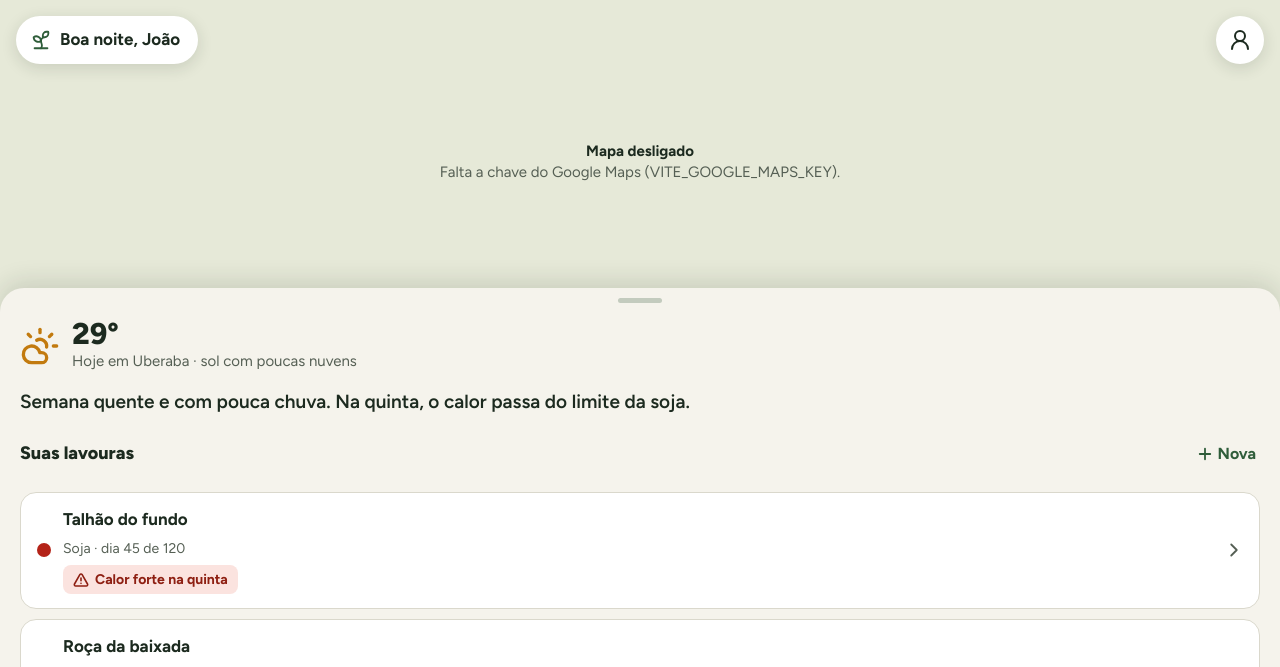
Test: Painel › no celular, leva para a Minha conta pelo botão do alto
The image size is (1280, 667).
Click the link named "Minha conta" at (1240, 40), box [1216, 16, 1264, 64]
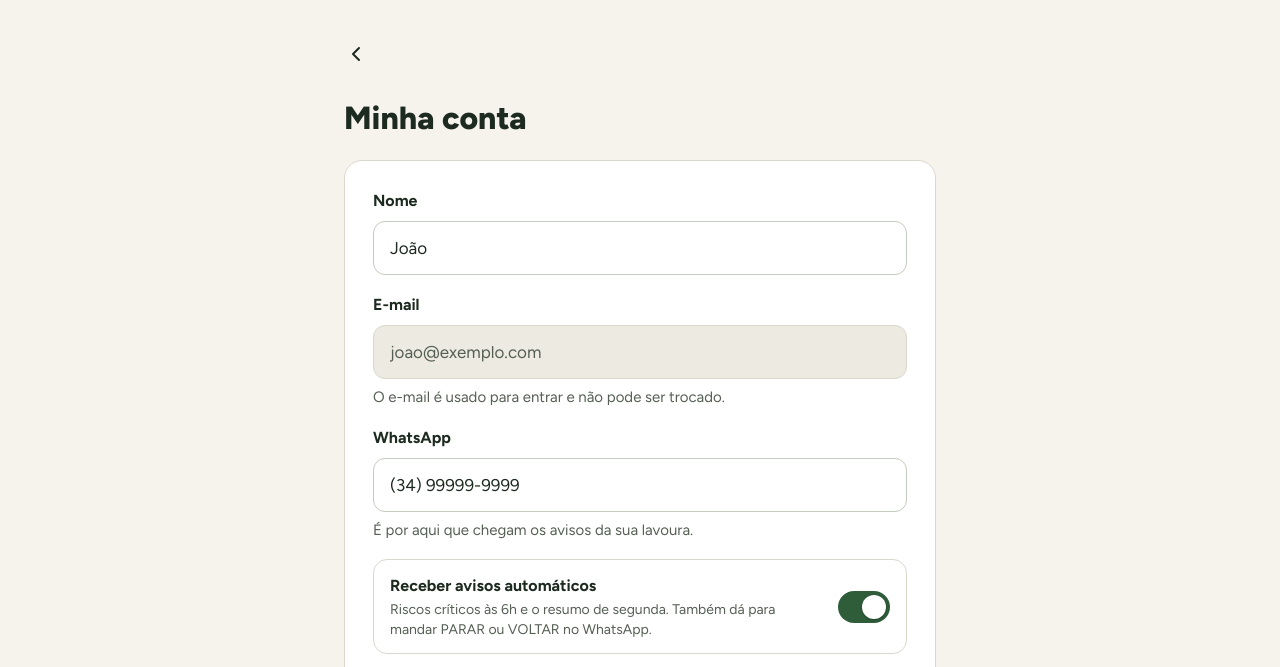
Expected: the heading "Minha conta" is shown, [344, 99, 527, 137]
